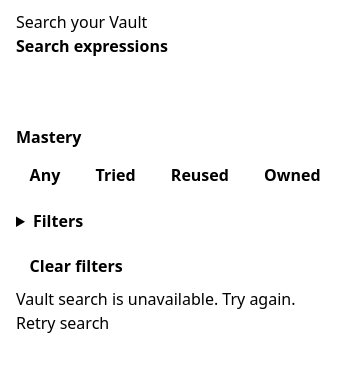
VaultSearch › retries a failed search with exactly the same filters
This screenshot has width=337, height=374.
Click the button "Retry search" at (63, 323), box [16,311,109,335]
Wait 300 ms
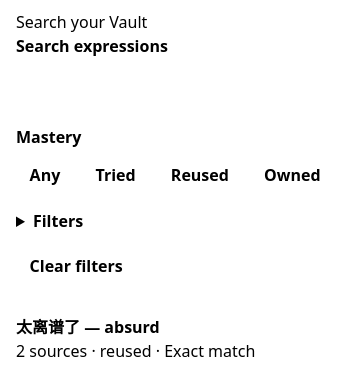
Now the text "太离谱了" is shown, box [16,316,80,338]
